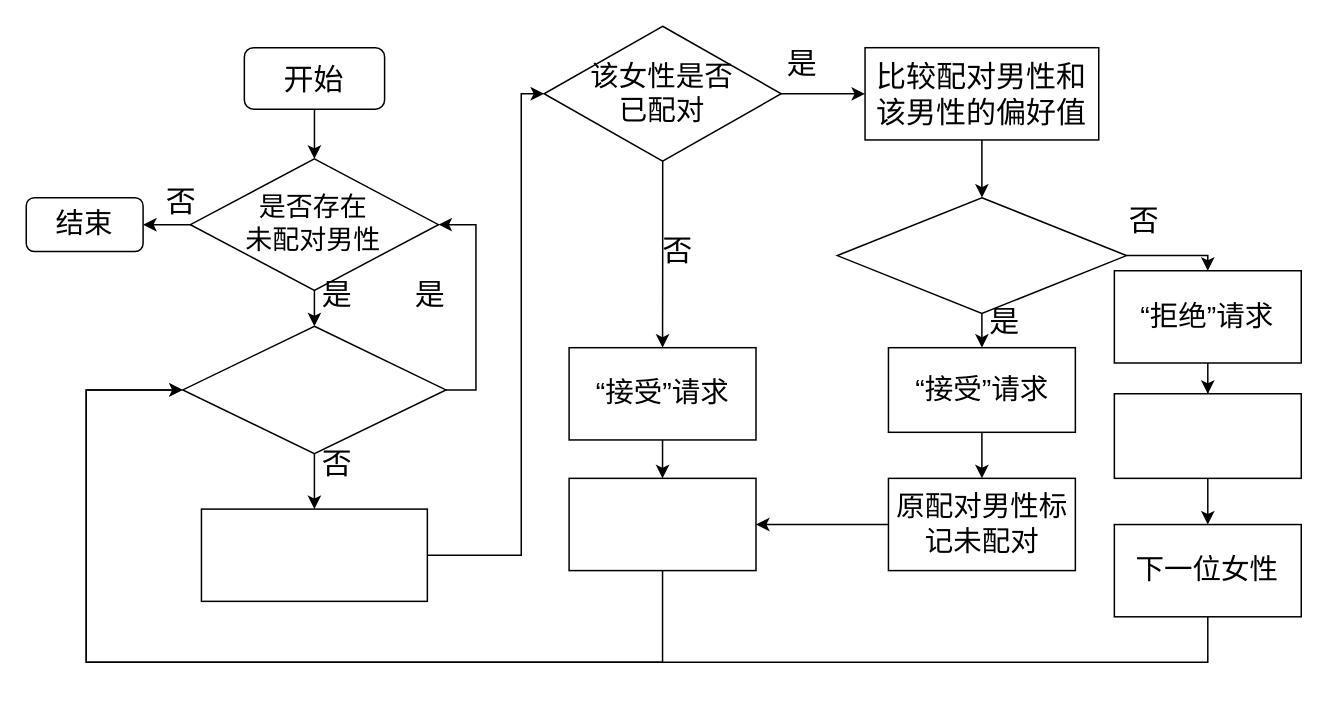
Image size: 1328x701. Some labels were removed from this diagram. Here are the shapes that lost their labels. From the top down, the box of each, then its label:
(836, 196, 1126, 314): 该男性 的 偏好值 更大
(181, 325, 446, 454): 该男性是否 成功配对
(1113, 392, 1301, 478): 配对失败
(568, 477, 756, 571): 配对成功
(200, 508, 427, 601): 向当前女性提出“请求”
